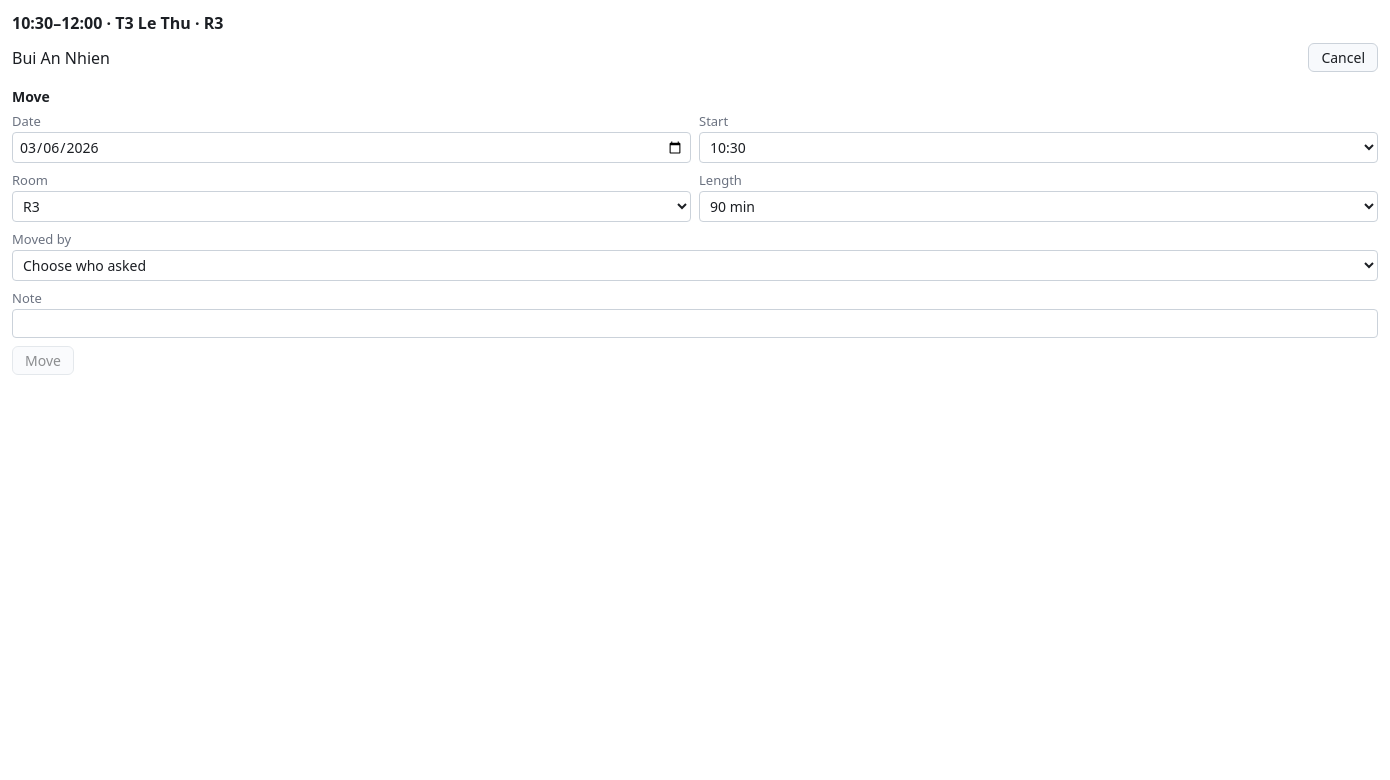
Test: SessionDetails › says the session is gone on a 404
Click the button with aria-label "Cancel Bui An Nhien" at (1343,58), box x1=1308 y1=43 x2=1378 y2=72
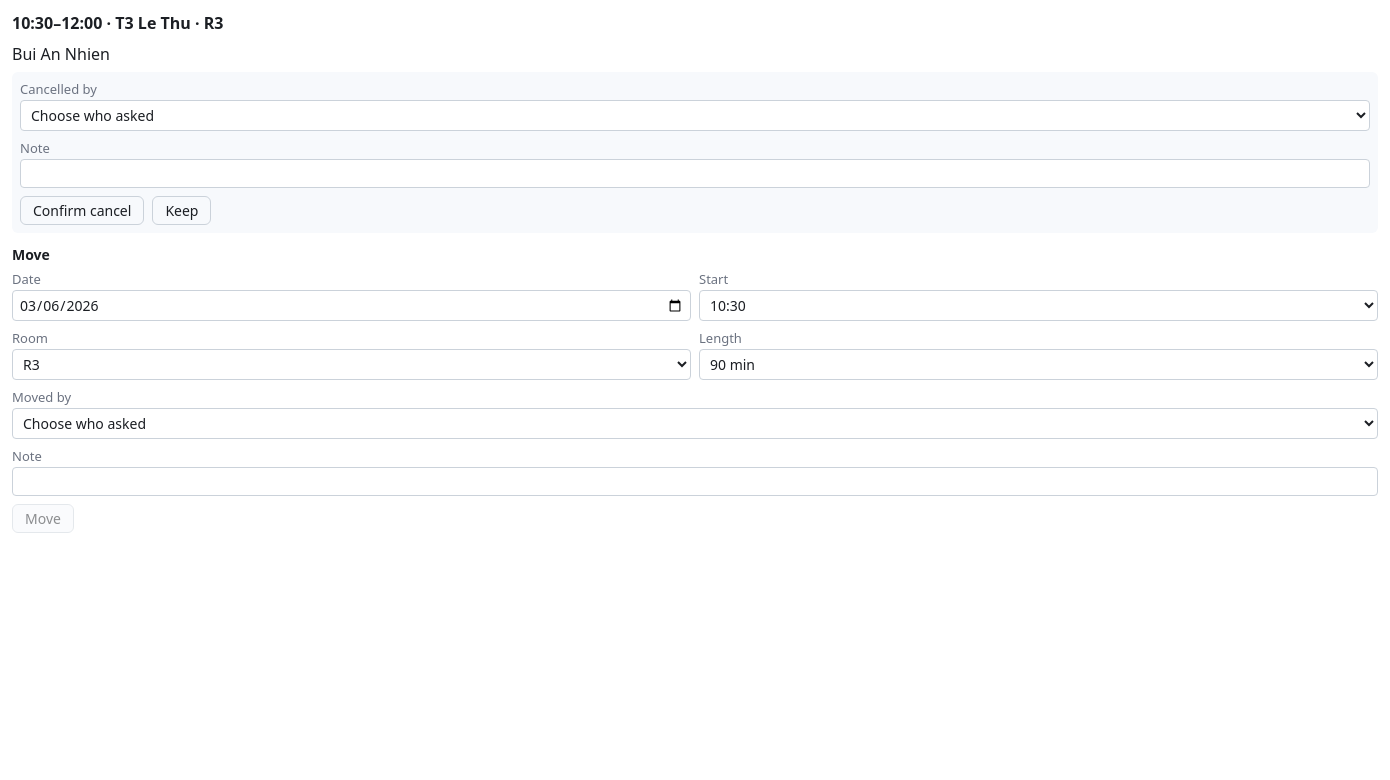
Select "centre" in the dropdown labelled "Cancelled by" at (695,116), box x1=20 y1=100 x2=1370 y2=131
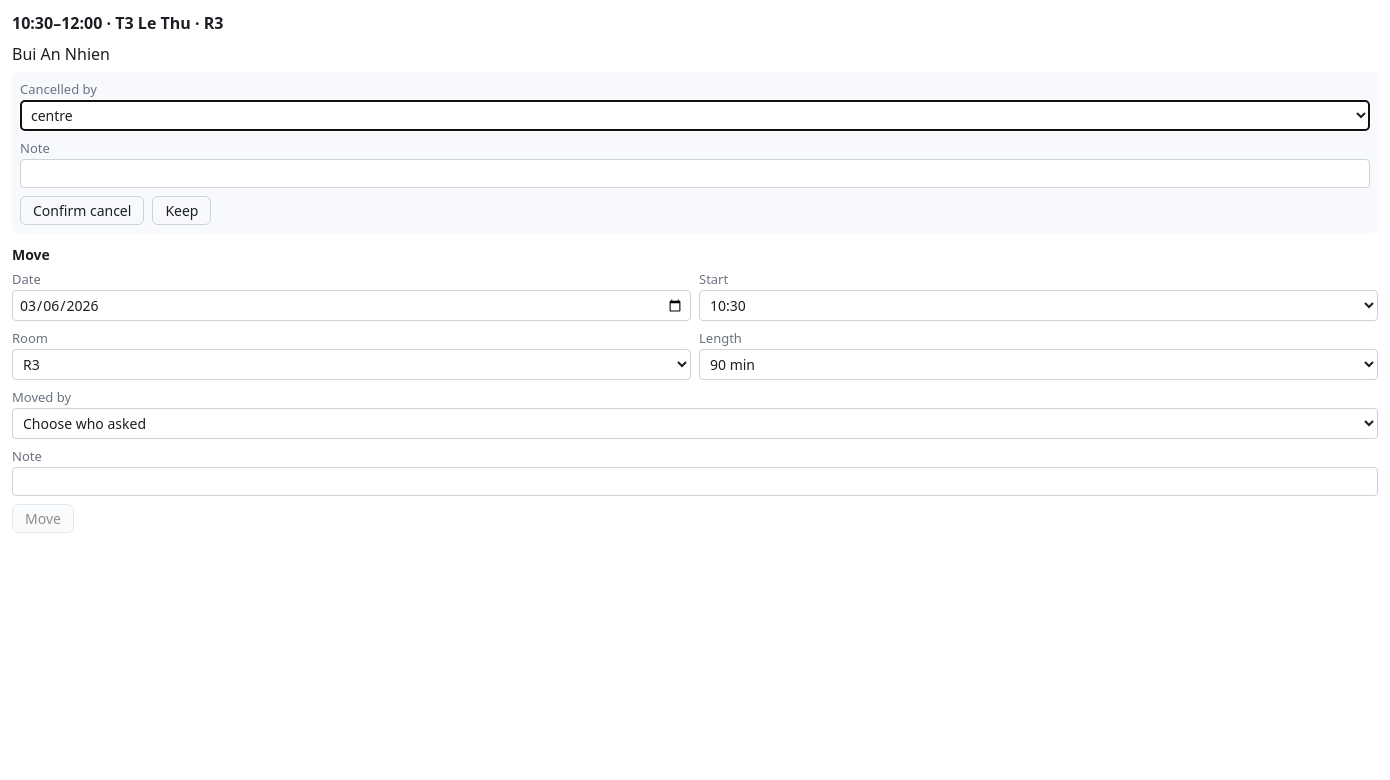
Click the button "Confirm cancel" at (82,210), box x1=20 y1=196 x2=144 y2=225
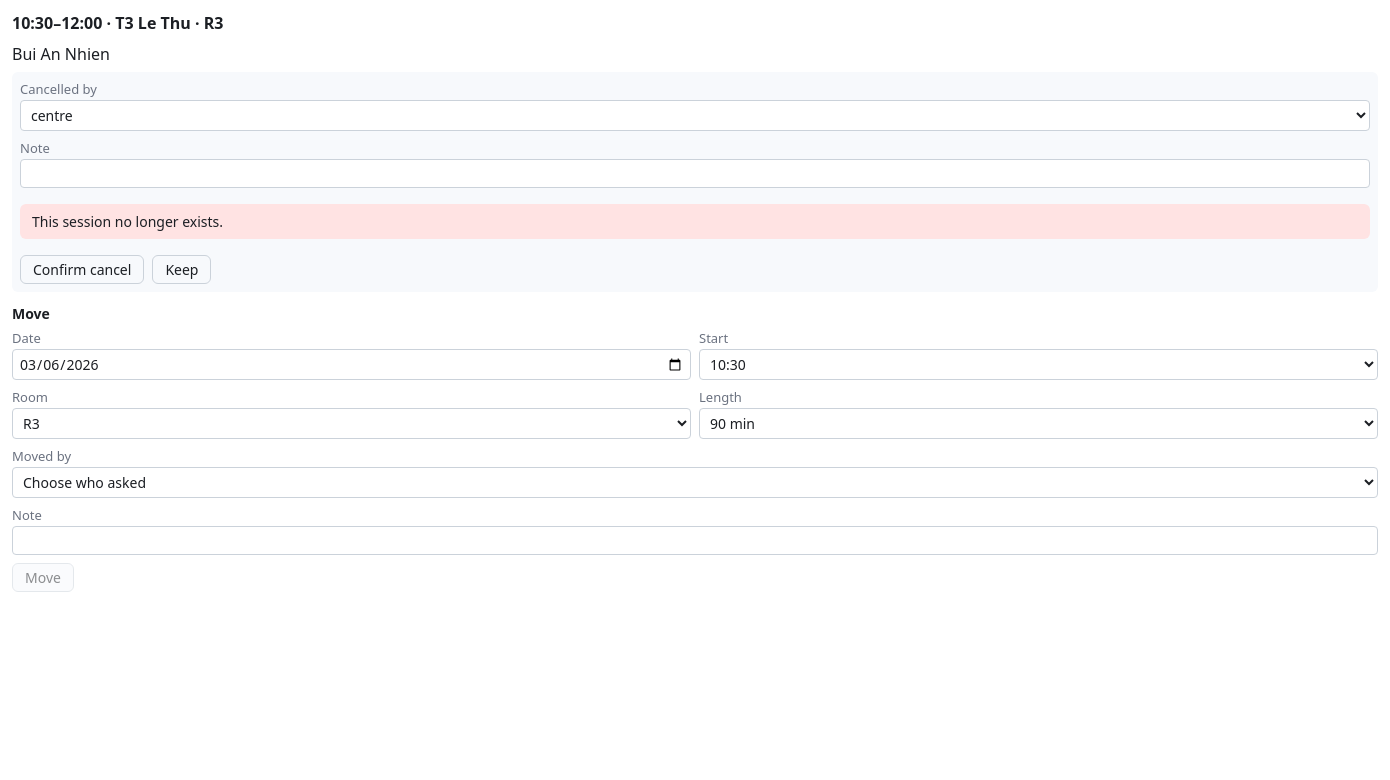
Expected: the message reads "This session no longer exists.", x1=32 y1=212 x2=223 y2=231
